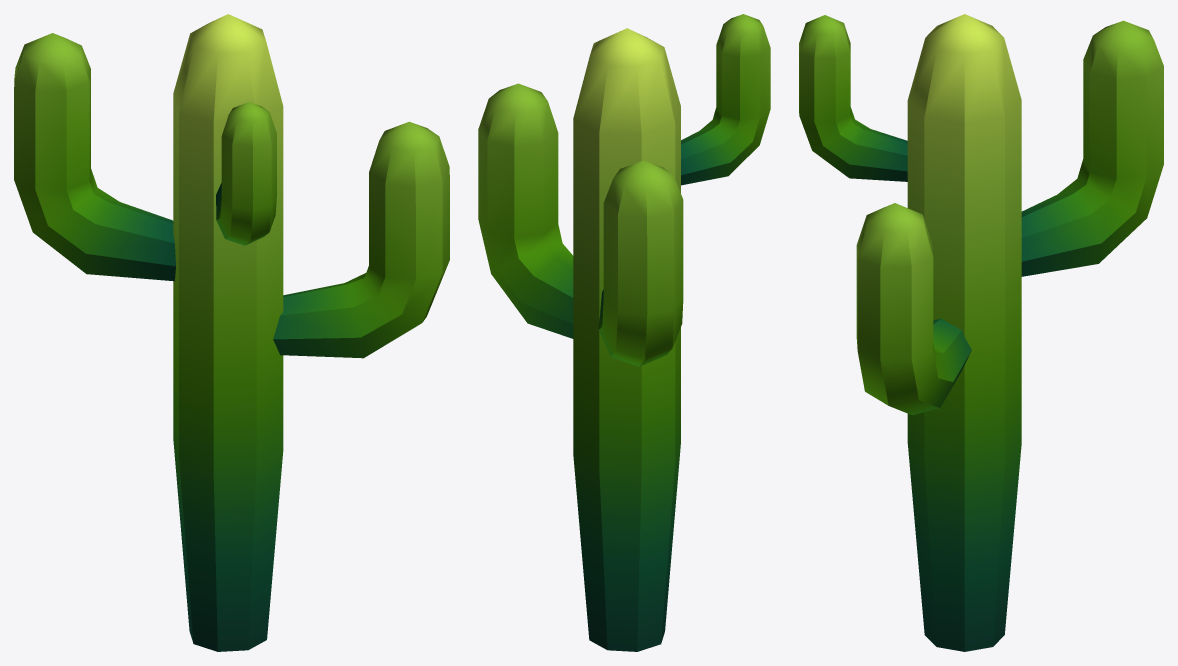
The model's file is SM_DE_Cactus_01.fbx.
3 views of the same model, side by side, from view 1: azimuth 30°, elevation 25°; view 2: azimuth 150°, elevation 25°; view 3: azimuth 270°, elevation 25° (orthographic). The views are drawn at different scales.
Visible parts, largest first — view 1: Cactus_01; view 2: Cactus_01; view 3: Cactus_01.
Boxes of the visible parts, <box> form: Cactus_01: <box>14,14,449,651</box>; Cactus_01: <box>478,14,770,651</box>; Cactus_01: <box>799,14,1163,651</box>.
Bounding box in the file's own units: 0.4593 × 0.8783 × 0.4676.
